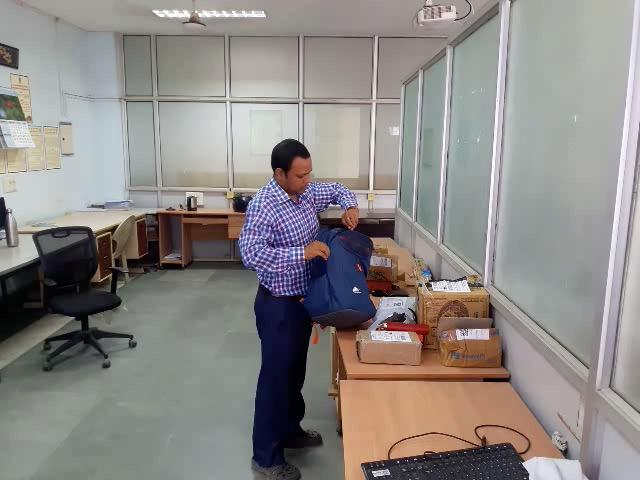shoplifting: (214, 192, 408, 339)
